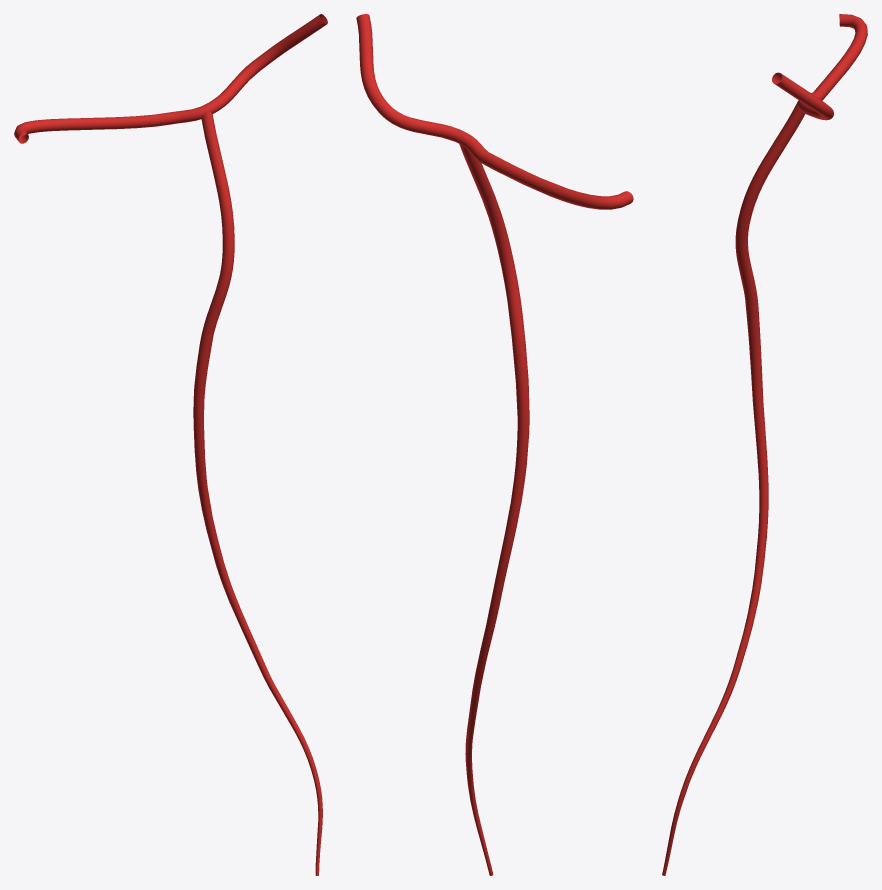
The model's file is circulatorio-external-pudendal-veins-l.glb.
The picture shows the model from 3 angles, left to right: view 1: azimuth 30°, elevation 25°; view 2: azimuth 150°, elevation 25°; view 3: azimuth 270°, elevation 25°; orthographic projection. The views are drawn at different scales.
Parts seen in each view (by area): view 1: External pudendal veins.l; view 2: External pudendal veins.l; view 3: External pudendal veins.l.
Boxes of the visible parts, <box> form: External pudendal veins.l: <box>14,14,327,875</box>; External pudendal veins.l: <box>356,14,633,875</box>; External pudendal veins.l: <box>662,14,867,875</box>.
Bounding box in the file's own units: 0.0369 × 0.1018 × 0.0228.
